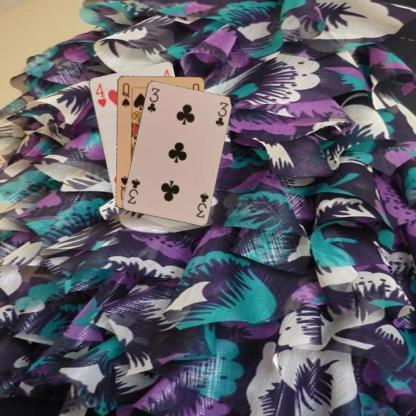3c: (193, 190, 210, 219), (144, 85, 160, 114)
4h: (92, 81, 108, 108)
Qs: (119, 80, 131, 109)
